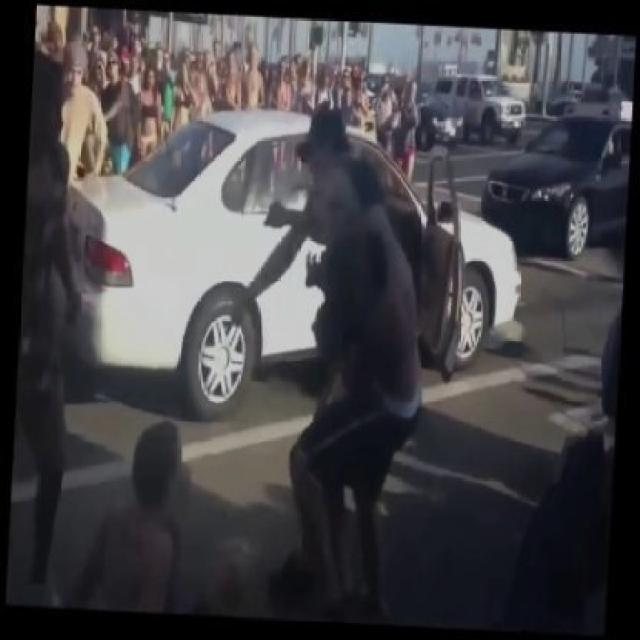fight: (242, 98, 438, 639)
